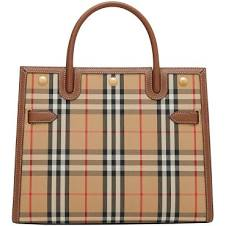Gucci: (18, 56, 215, 226), (69, 105, 158, 204)
